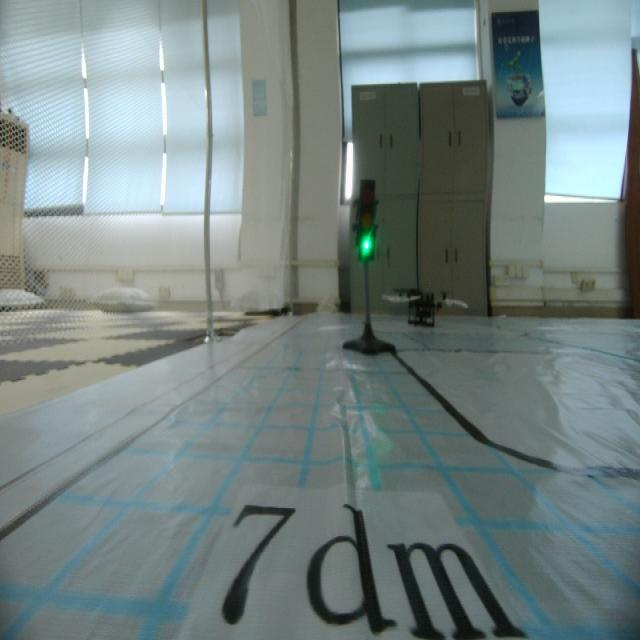green: (346, 172, 382, 269)
